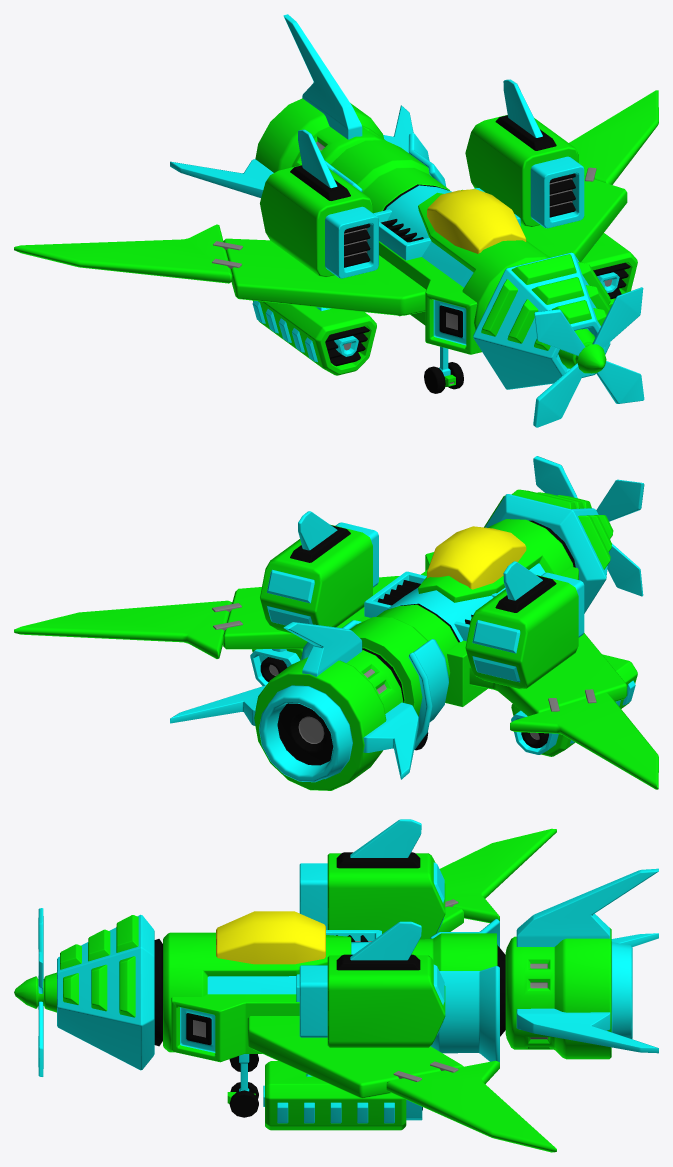
3 renders of one model, top to bottom at view 1: azimuth 30°, elevation 25°; view 2: azimuth 150°, elevation 25°; view 3: azimuth 270°, elevation 25°, orthographic.
Visible parts, largest first — view 1: Wing14_R, Body14_A, Wing14_L, Propeller14_A, Fin14, Propeller14_B, Spurt14_R, Spurt14_L, Body14_C; view 2: Wing14_R, Fin14, Body14_A, Wing14_L, Propeller14_A, Propeller14_B, Spurt14_R, Spurt14_L; view 3: Wing14_L, Body14_A, Fin14, Wing14_R, Propeller14_A, Spurt14_L, Body14_D, Propeller14_B.
Boxes of the visible parts, bbox=[...] form: Wing14_R: bbox=[14, 129, 426, 315]; Body14_A: bbox=[325, 133, 564, 354]; Wing14_L: bbox=[465, 79, 658, 262]; Propeller14_A: bbox=[473, 252, 610, 389]; Fin14: bbox=[170, 14, 413, 197]; Propeller14_B: bbox=[533, 287, 644, 427]; Spurt14_R: bbox=[252, 300, 376, 375]; Spurt14_L: bbox=[581, 233, 637, 308]; Body14_C: bbox=[424, 346, 463, 393]; Wing14_R: bbox=[465, 561, 658, 789]; Fin14: bbox=[170, 622, 418, 790]; Body14_A: bbox=[301, 519, 578, 749]; Wing14_L: bbox=[14, 511, 454, 658]; Propeller14_A: bbox=[484, 489, 613, 613]; Propeller14_B: bbox=[533, 456, 644, 596]; Spurt14_R: bbox=[511, 654, 637, 756]; Spurt14_L: bbox=[250, 649, 302, 685]; Wing14_L: bbox=[247, 921, 556, 1152]; Body14_A: bbox=[163, 911, 505, 1062]; Fin14: bbox=[505, 868, 658, 1059]; Wing14_R: bbox=[299, 819, 556, 939]; Propeller14_A: bbox=[14, 914, 162, 1070]; Spurt14_L: bbox=[263, 1061, 422, 1130]; Body14_D: bbox=[227, 1054, 258, 1117]; Propeller14_B: bbox=[38, 908, 43, 1076].
Bounding box in the file's own units: 22.39 × 7.15 × 19.04.
